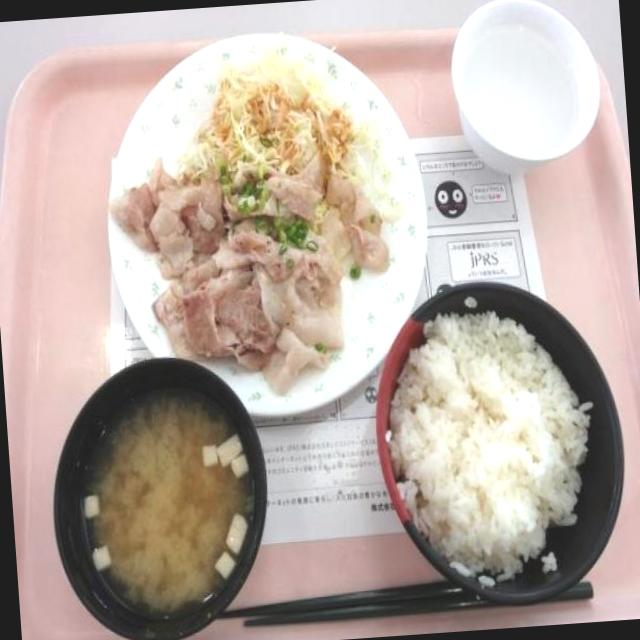Rice: (380, 302, 596, 586)
